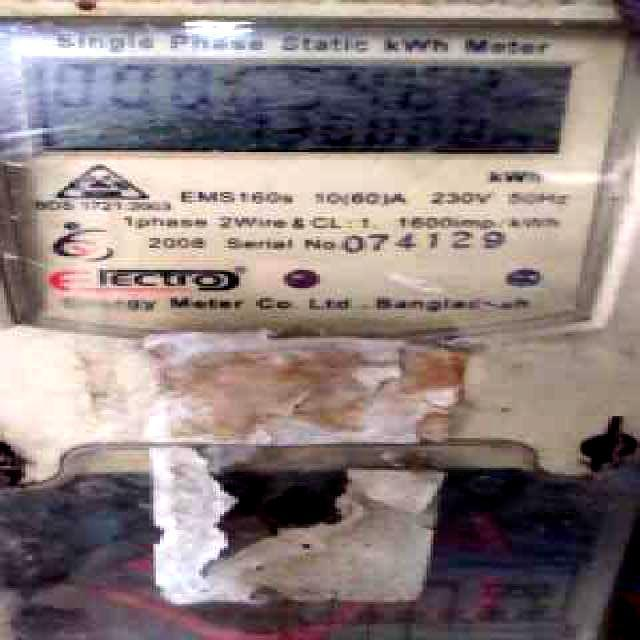LCD: (20, 48, 577, 163)
